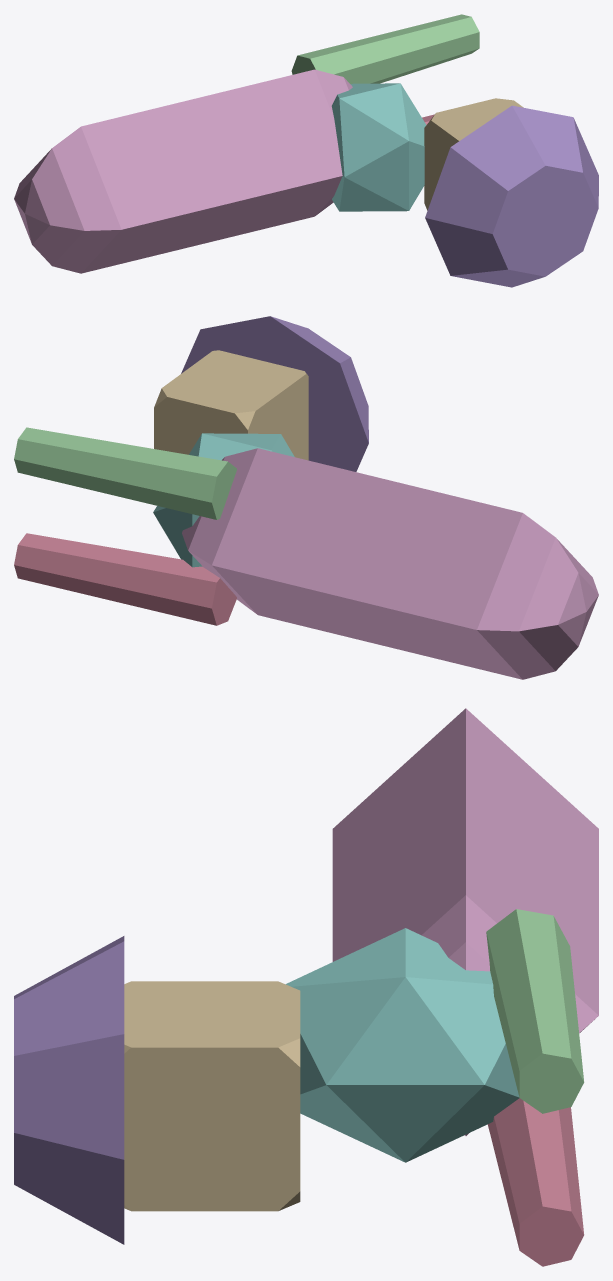
3 views of the same model, one above another, from view 1: azimuth 30°, elevation 25°; view 2: azimuth 150°, elevation 25°; view 3: azimuth 270°, elevation 25° (orthographic). The views are drawn at different scales.
Visible parts, largest first — view 1: part0, part3, part1, part4, part2; view 2: part0, part2, part4, part5, part3, part1; view 3: part0, part2, part1, part3, part4, part5.
Part boxes in pixels (box(x1,y1,x2,y2)): part0: box(14, 69, 352, 273); part3: box(425, 105, 598, 287); part1: box(331, 83, 426, 211); part4: box(291, 14, 479, 84); part2: box(424, 98, 523, 210); part0: box(182, 448, 598, 679); part2: box(154, 350, 308, 460); part4: box(14, 427, 236, 519); part5: box(14, 533, 236, 625); part3: box(181, 316, 368, 471); part1: box(153, 433, 294, 567); part0: box(332, 708, 598, 1135); part2: box(124, 981, 300, 1211); part1: box(285, 928, 519, 1162); part3: box(14, 936, 124, 1244); part4: box(486, 909, 584, 1113); part5: box(487, 1098, 584, 1266).
Bounding box in the file's own units: 4.44 × 1.64 × 2.91.
